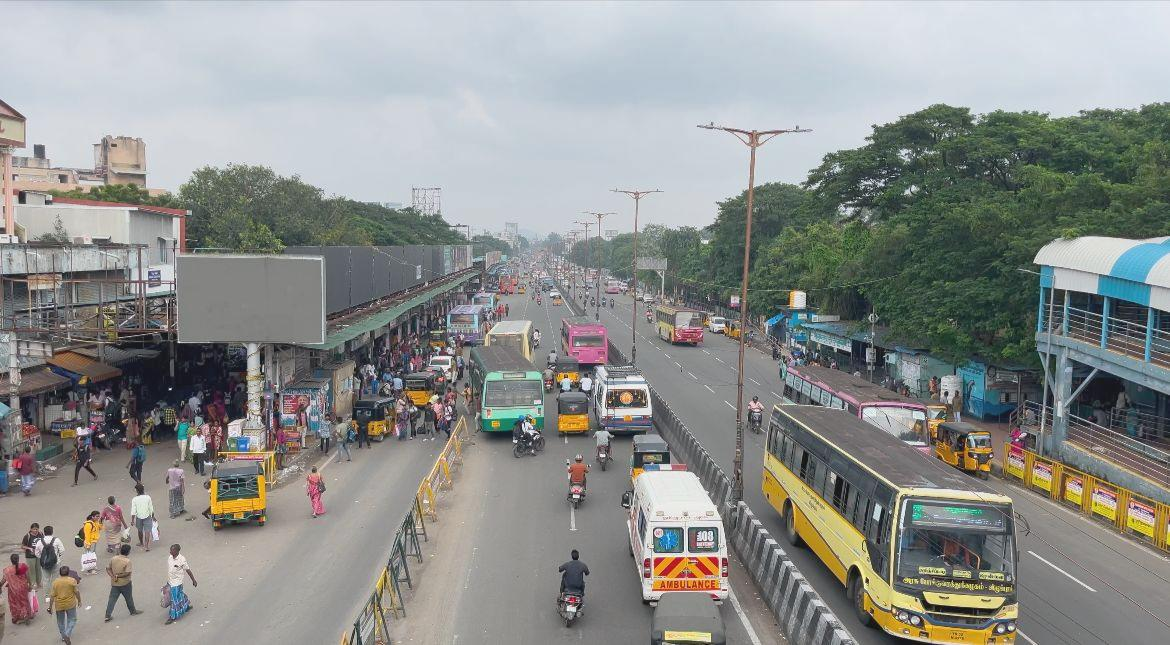ambulance: (624, 462, 736, 598)
